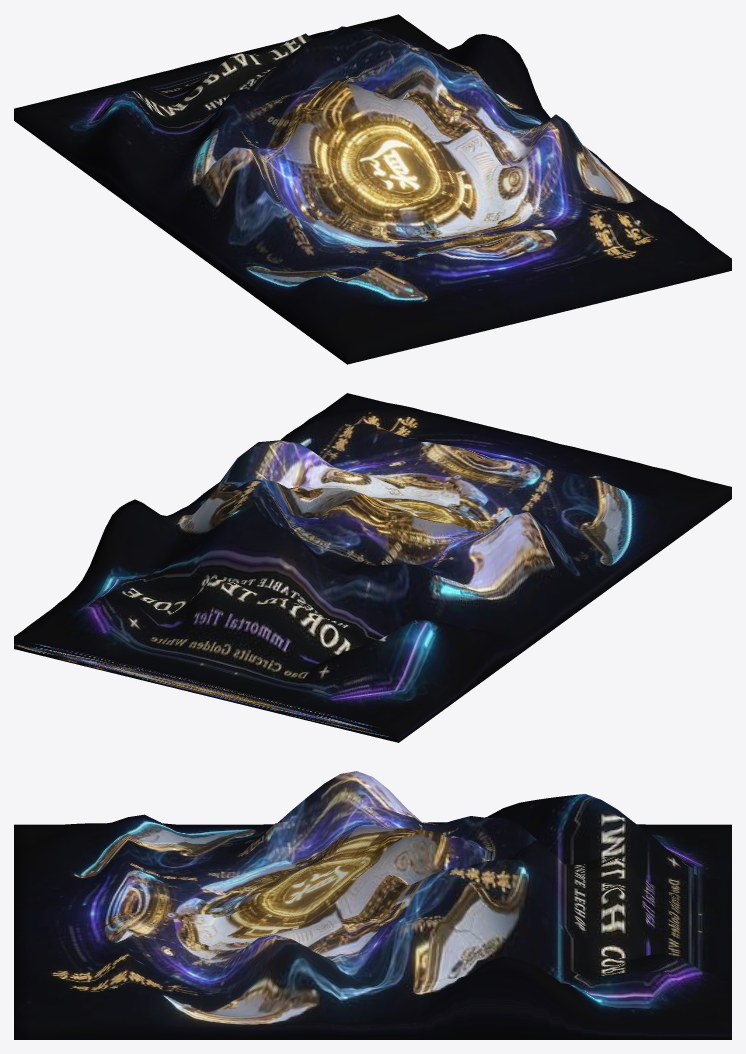
Rendered from TECH_06_Immortal_Tech_Core.glb.
The picture shows the model from 3 angles, top to bottom: view 1: azimuth 30°, elevation 25°; view 2: azimuth 150°, elevation 25°; view 3: azimuth 270°, elevation 25°; orthographic projection. The views are drawn at different scales.
Parts seen in each view (by area): view 1: TECH_06_Immortal_Tech_Core; view 2: TECH_06_Immortal_Tech_Core; view 3: TECH_06_Immortal_Tech_Core.
Part boxes in pixels (x1,y1,x2,y2): TECH_06_Immortal_Tech_Core: (14, 14, 731, 364); TECH_06_Immortal_Tech_Core: (14, 393, 731, 742); TECH_06_Immortal_Tech_Core: (14, 771, 731, 1039).
Bounding box in the file's own units: 2 × 0.51 × 3.
1 material, 1 textured.
